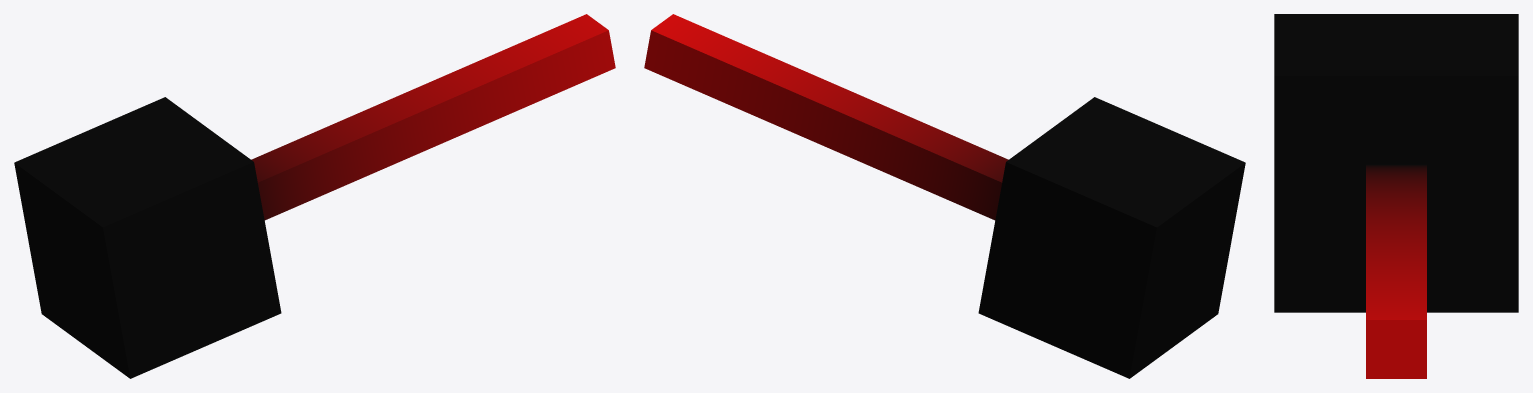
File: martillo.fbx
3 renders of one model, left to right at view 1: azimuth 30°, elevation 25°; view 2: azimuth 150°, elevation 25°; view 3: azimuth 270°, elevation 25°, orthographic. The views are drawn at different scales.
Parts seen in each view (by area): view 1: martillo; view 2: martillo; view 3: martillo.
Boxes of the visible parts, left/top/right/bottom form: martillo: left=14, top=14, right=615, bottom=378; martillo: left=644, top=14, right=1245, bottom=378; martillo: left=1274, top=14, right=1518, bottom=378.
Size of the model in its own units: 7.11 by 2.48 by 2.
